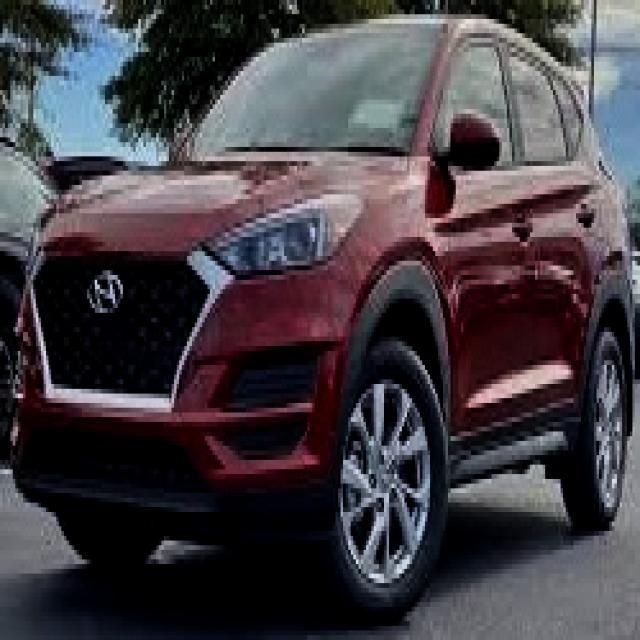maroon: (0, 9, 632, 592)
